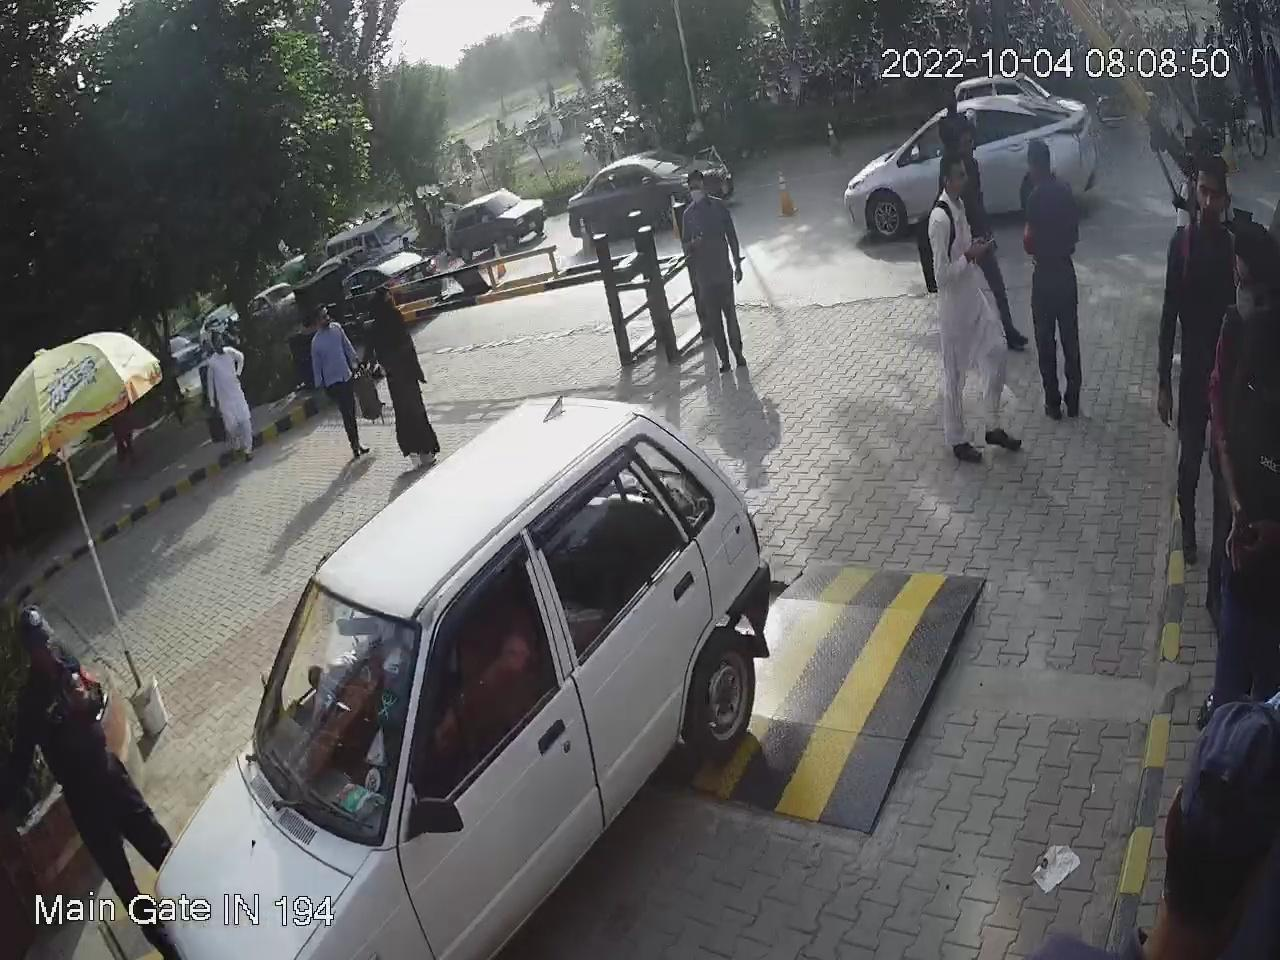windshield: (236, 565, 430, 865)
